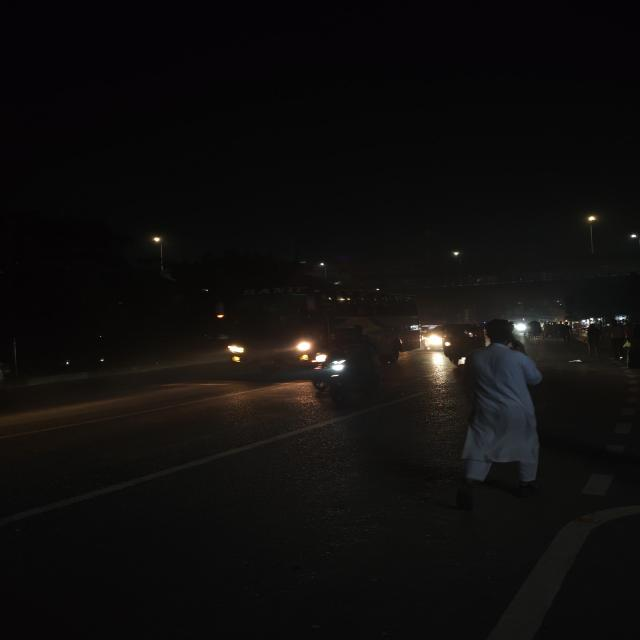bus: (215, 286, 429, 362)
cng: (439, 317, 488, 362)
motorcycle: (302, 342, 386, 402)
pedestrian: (443, 322, 555, 500), (618, 317, 640, 372), (606, 317, 632, 361), (582, 320, 605, 356), (560, 321, 575, 347)
rickshaw: (525, 318, 546, 342)
